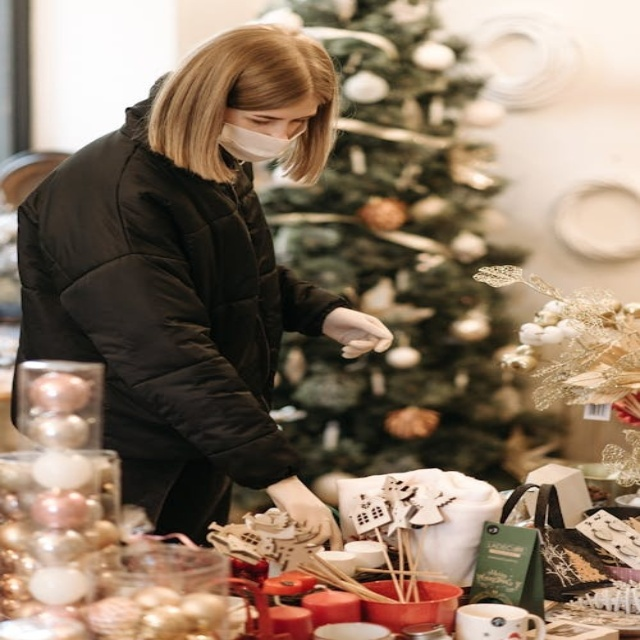Guantes: (264, 476, 342, 553), (322, 307, 393, 358)
Mascara: (216, 121, 304, 163)
Sin_gafas: (242, 108, 315, 135)
